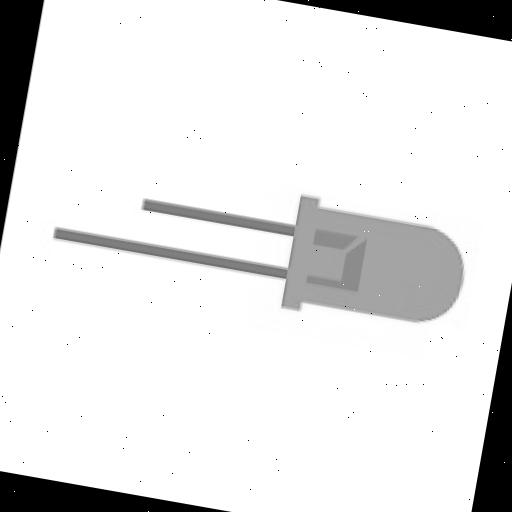LED: (11, 97, 512, 512)
